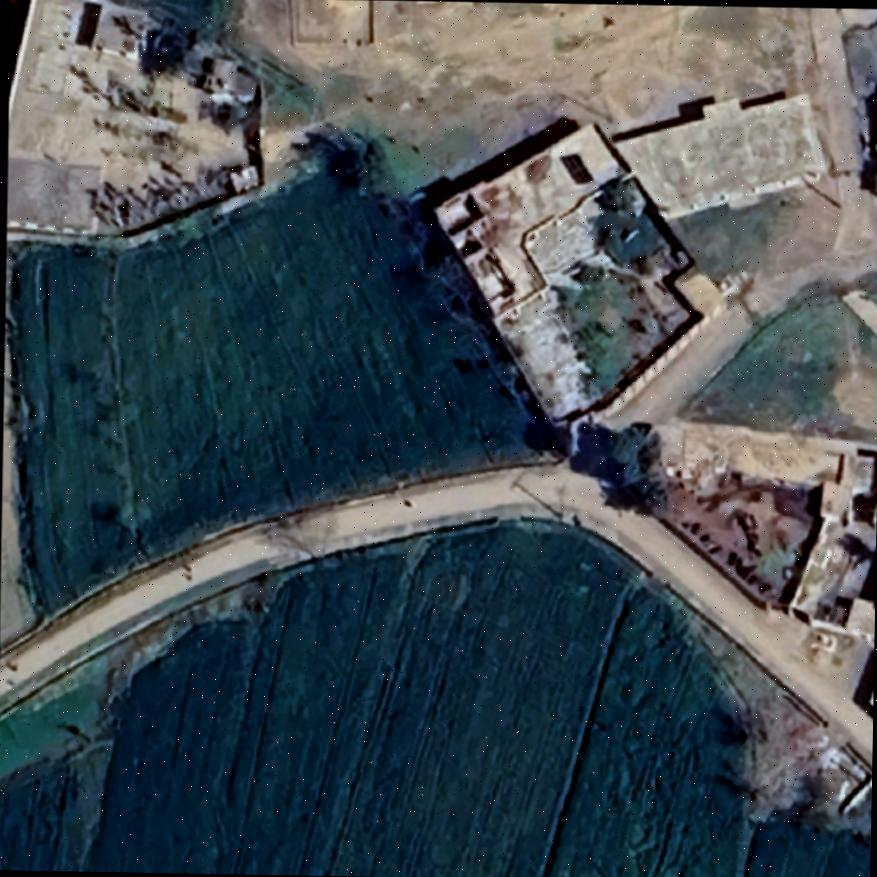Solarpanel: (559, 144, 594, 186)
